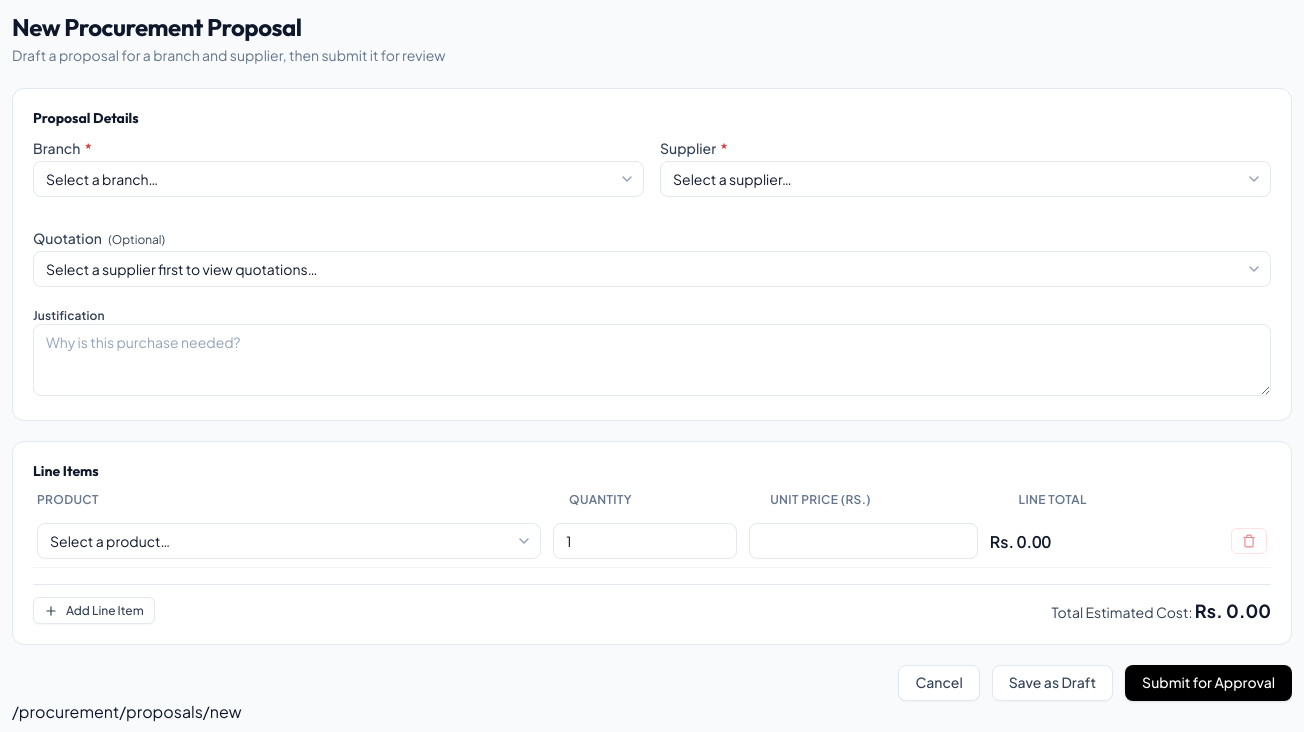
it: NewProposalForm validation › shows server-side field errors from a 400 ProblemDetails
Select "Colombo Central (COL-01)" in the dropdown labelled "Branch *": (338,179) [33,161,644,197]
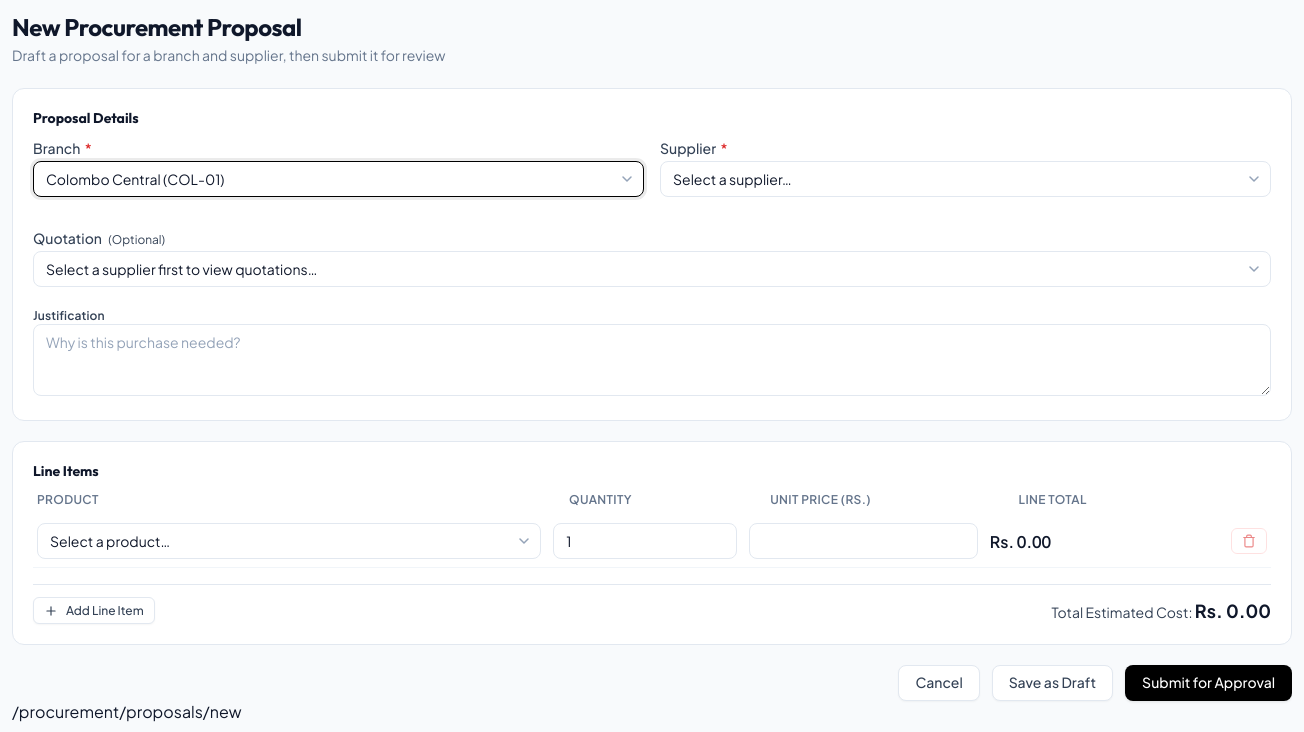
Select "Lanka Stationery Distributors" in the dropdown labelled "Supplier *": (966,179) [660,161,1271,197]
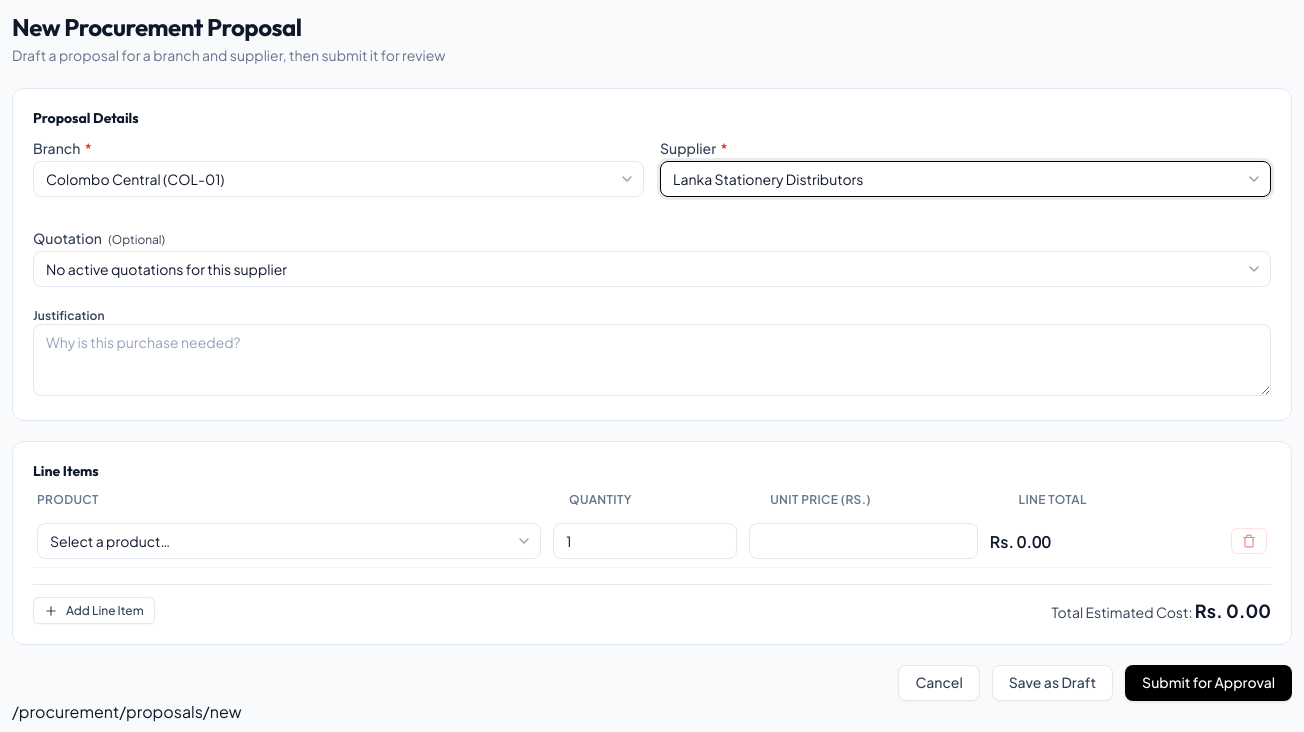
Select "Copy Paper A4 (PPR-A4)" in the dropdown named "Product": (289,541) [37,523,541,559]
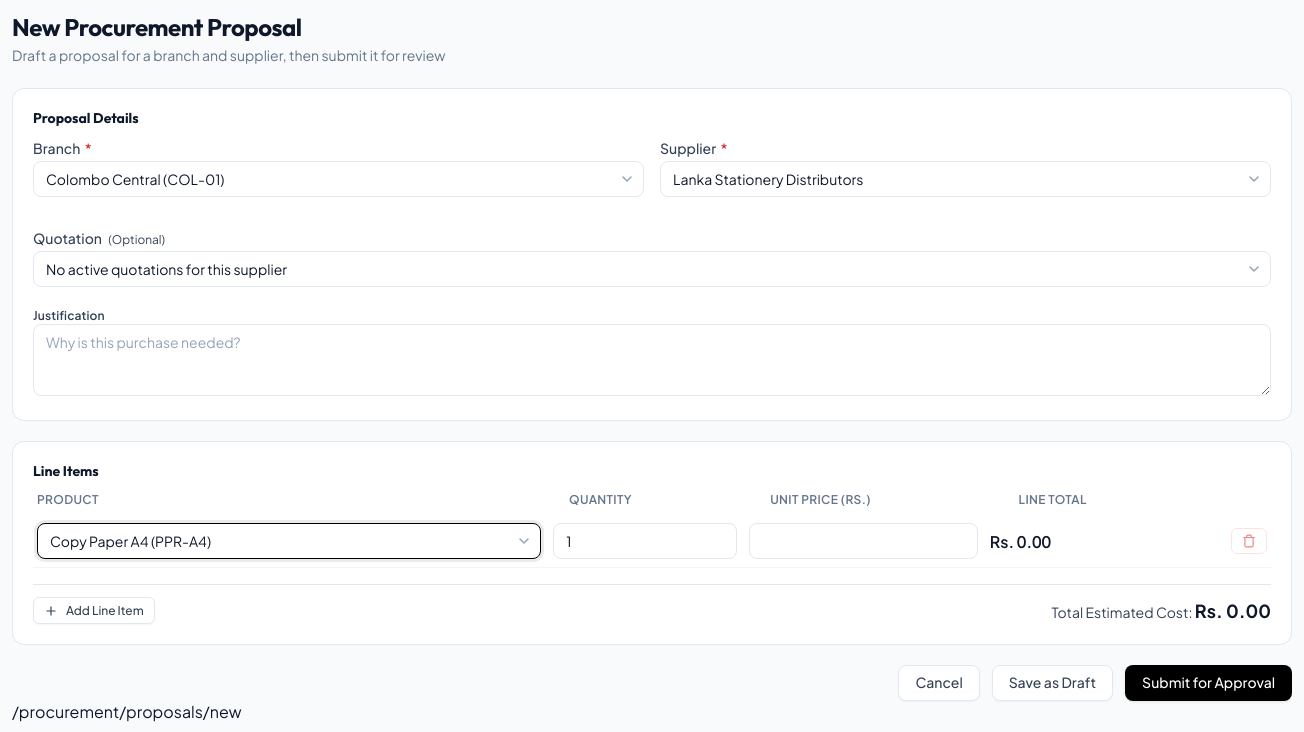
Replace the text in the 1st number field with "12": (645,541) [553,523,737,559]
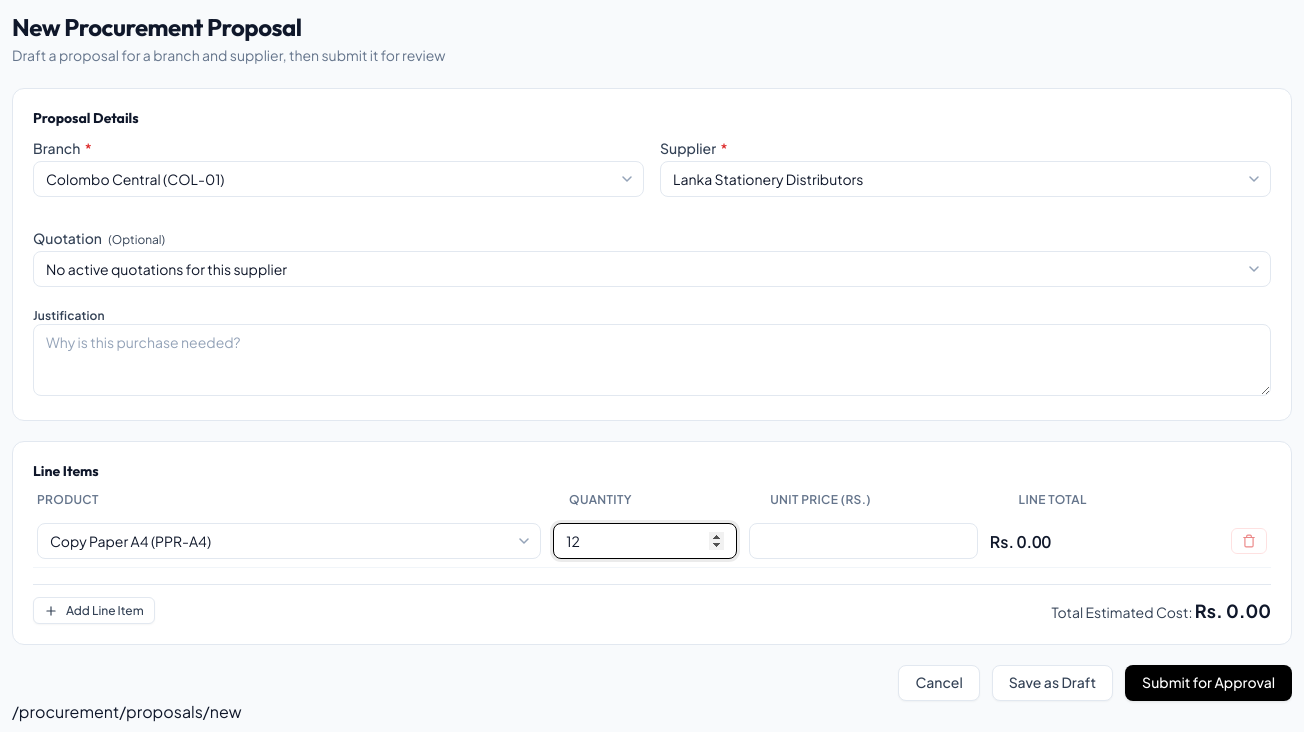
In the 2nd number field: (863,541) [749,523,978,559], type "499.5"
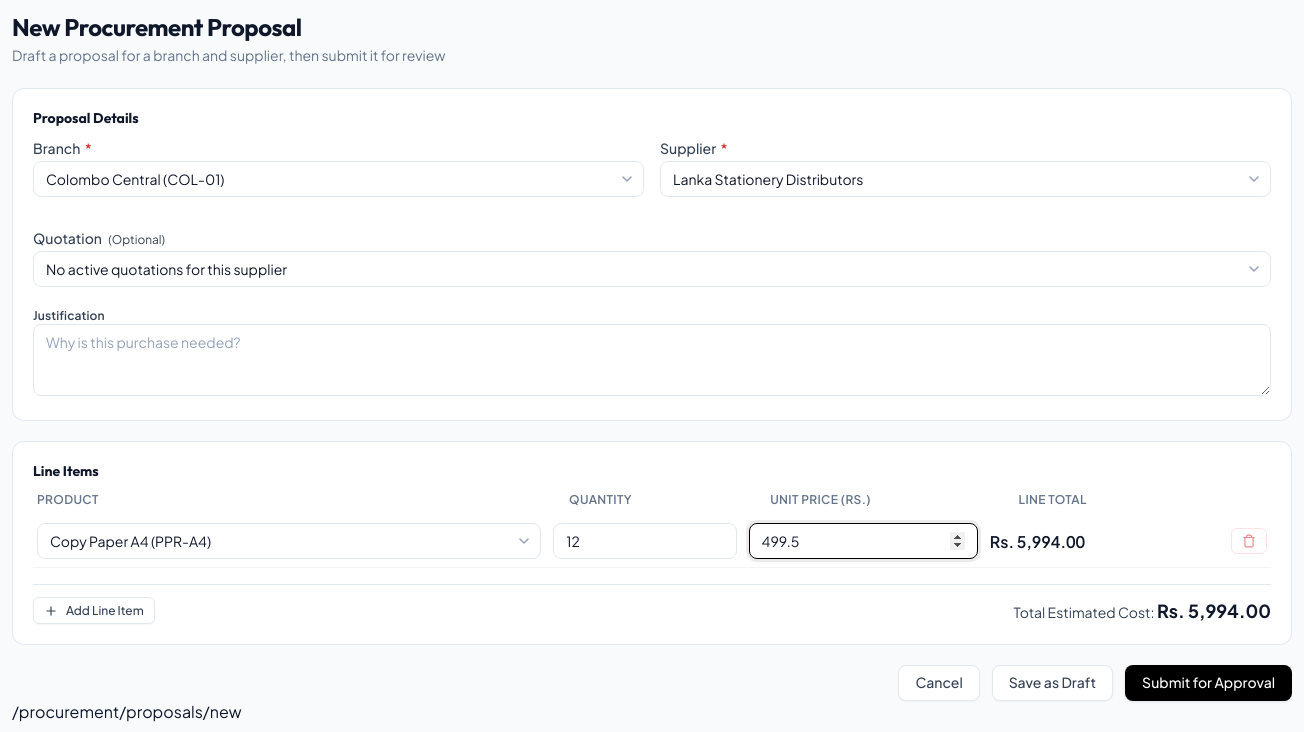
Click the button "Submit for Approval": (1209,683) [1125,665,1292,700]
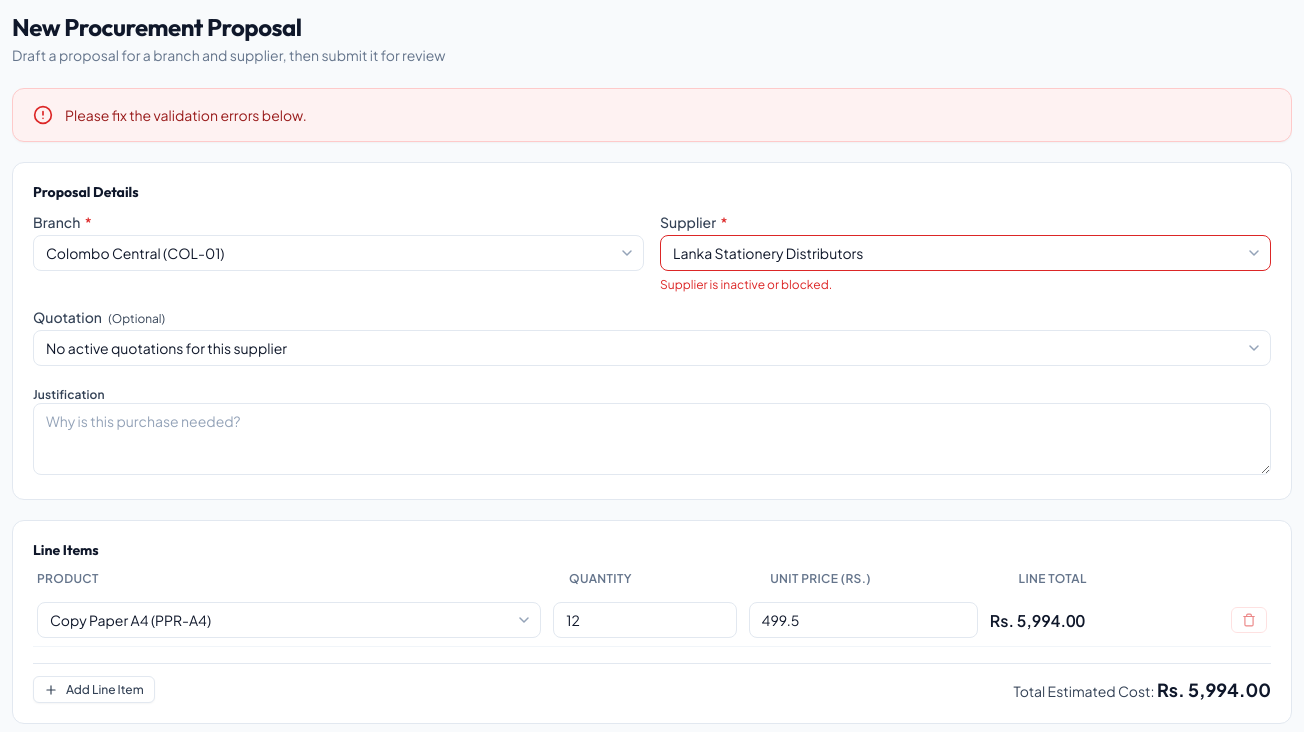
Now the text "Please fix the validation errors below." is shown, box [65,106,307,124]
Now the text "Supplier is inactive or blocked." is shown, box [660,277,832,292]
